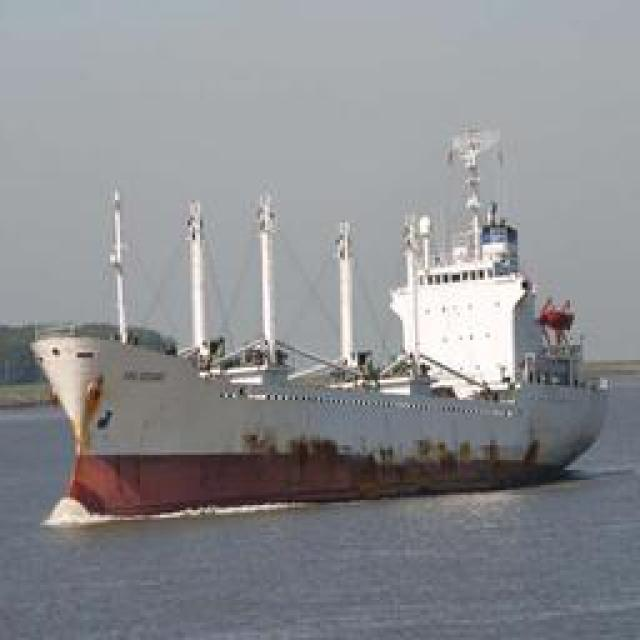CIV_Ship: (31, 138, 616, 514)
